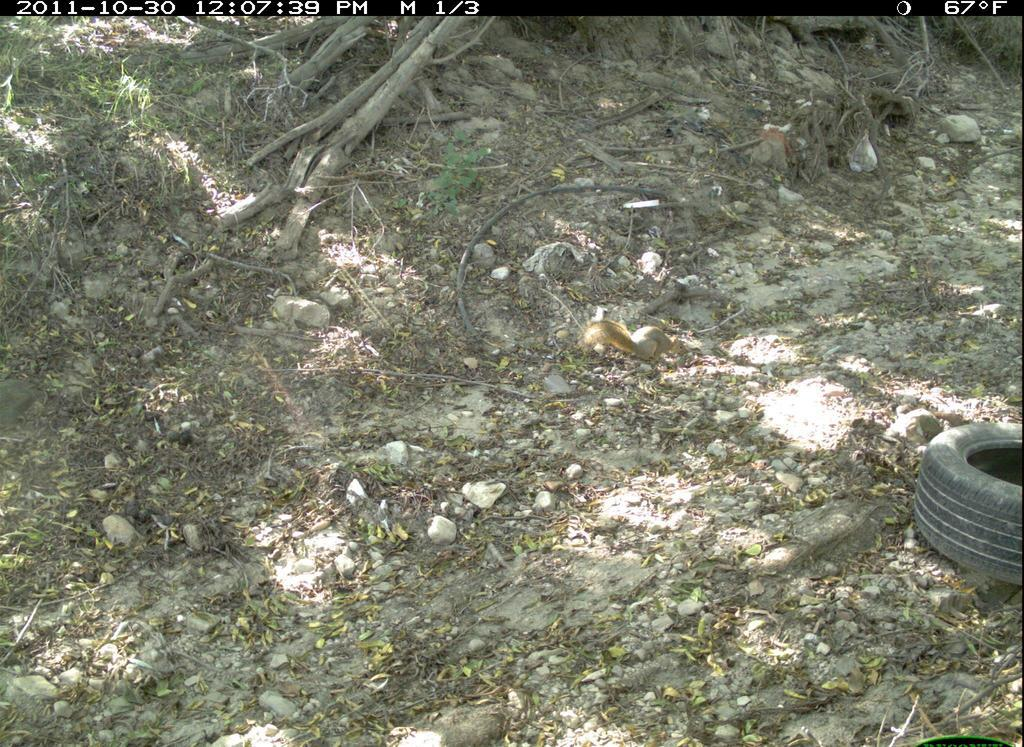squirrel: (576, 316, 691, 368)
